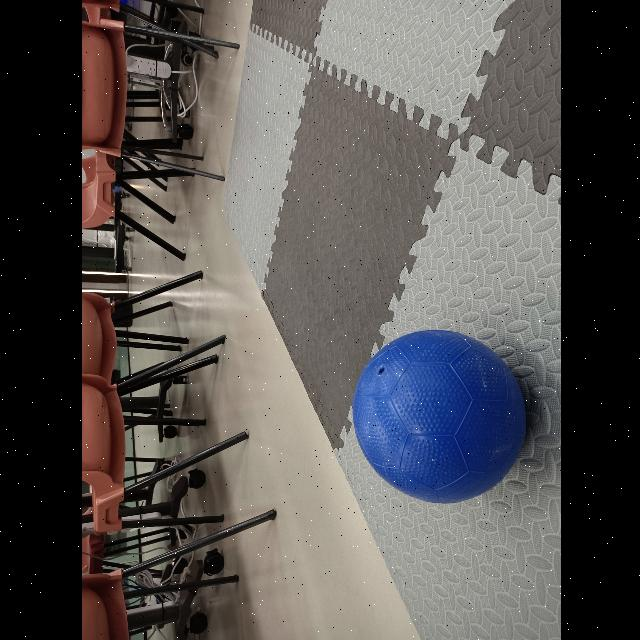B: (350, 330, 524, 504)
